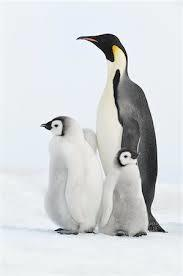emporer: (67, 26, 181, 245)
